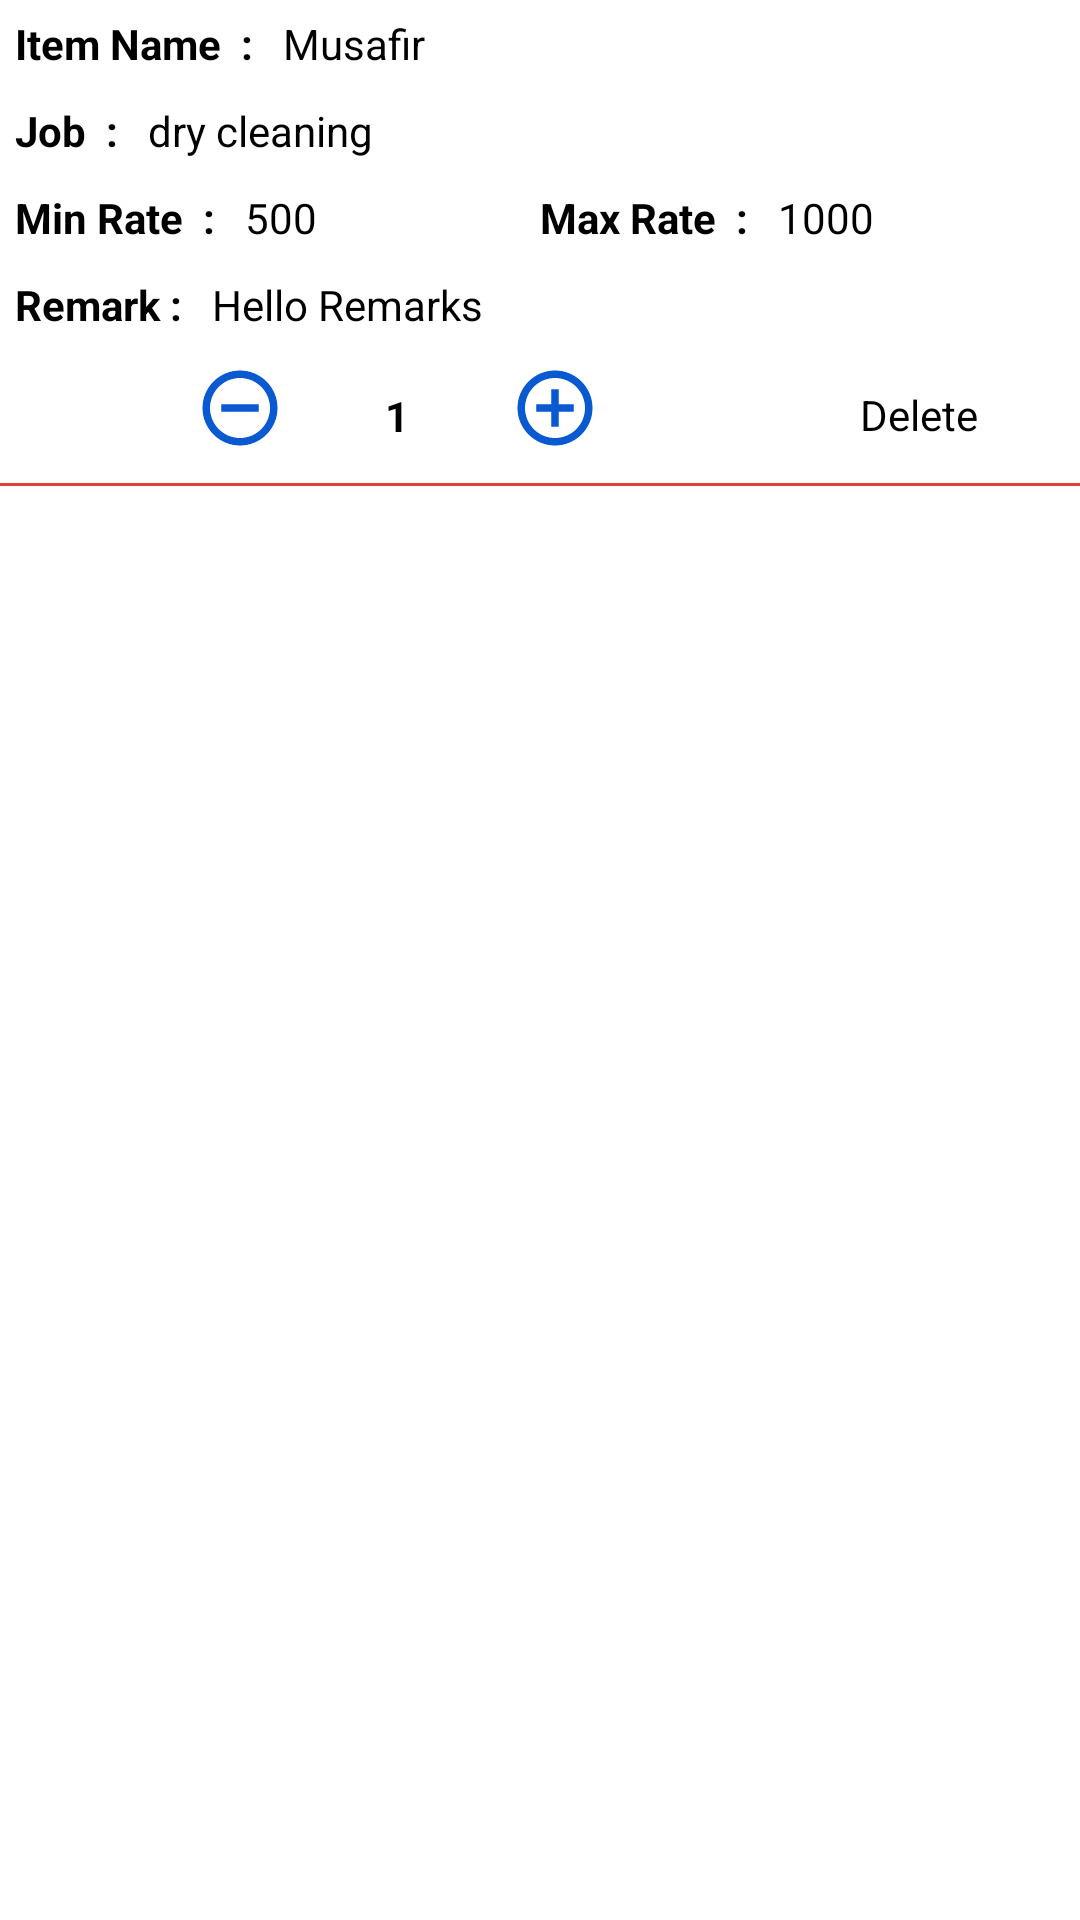

Icons on this 1080*1920 Android screen, each with the point to tap as [x,y]:
add circle: [555,408]
remove circle: [240,408]
